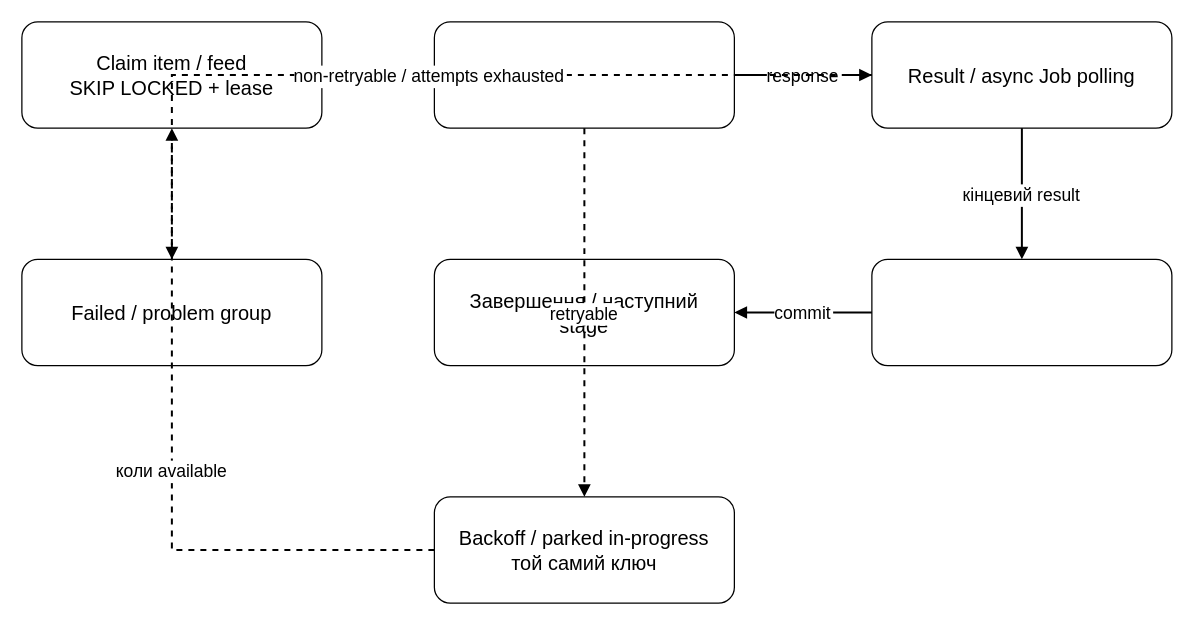
Image size: 1194x625. Some labels were removed from this diagram. The box of each missing label's shape, as (x1, y1, x2, y2) in pixels:
API сусіда стабільний delivery key: (433, 21, 734, 128)
Транзакція result + downstream + completion: (871, 258, 1172, 366)
